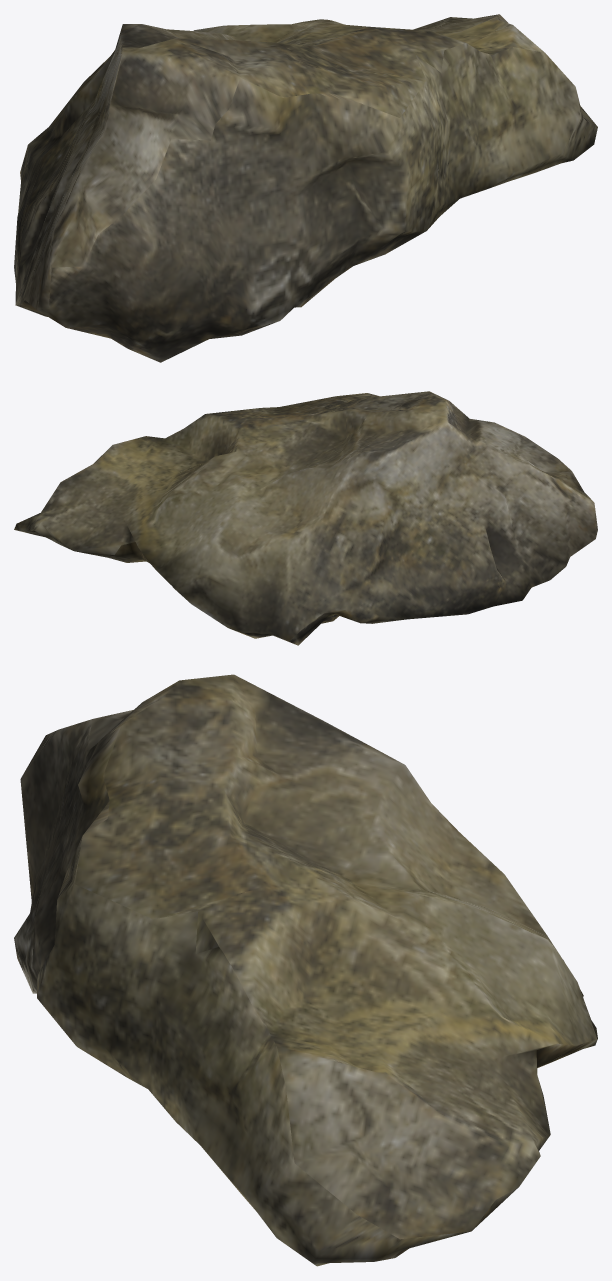
File: pine_rockb_09.glb
3 views of the same model, one above another, from view 1: azimuth 30°, elevation 25°; view 2: azimuth 150°, elevation 25°; view 3: azimuth 270°, elevation 25° (orthographic). The views are drawn at different scales.
Parts seen in each view (by area): view 1: pine_rockb_09; view 2: pine_rockb_09; view 3: pine_rockb_09.
Part boxes in pixels (x1,y1,x2,y2): pine_rockb_09: [14, 14, 597, 362]; pine_rockb_09: [14, 391, 597, 645]; pine_rockb_09: [14, 674, 597, 1266].
Size of the model in its own units: 1.44 by 0.5361 by 0.9009.
Materials: 1 (1 with a texture image).
